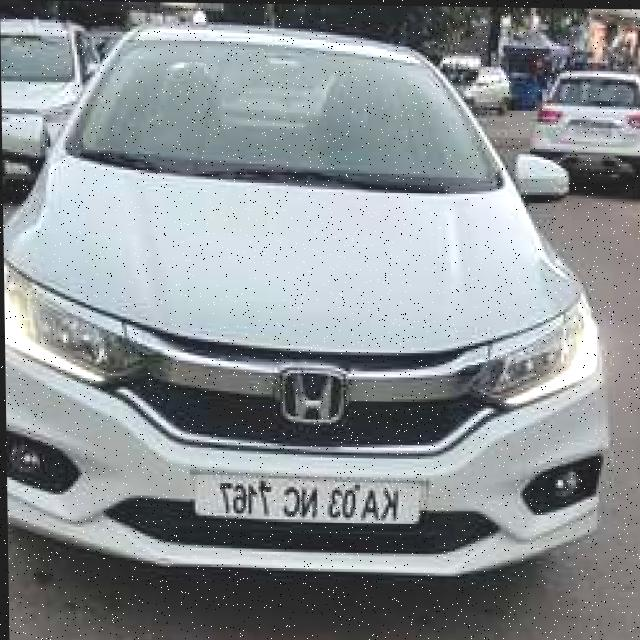plate: (192, 472, 421, 524), (571, 122, 613, 135)
